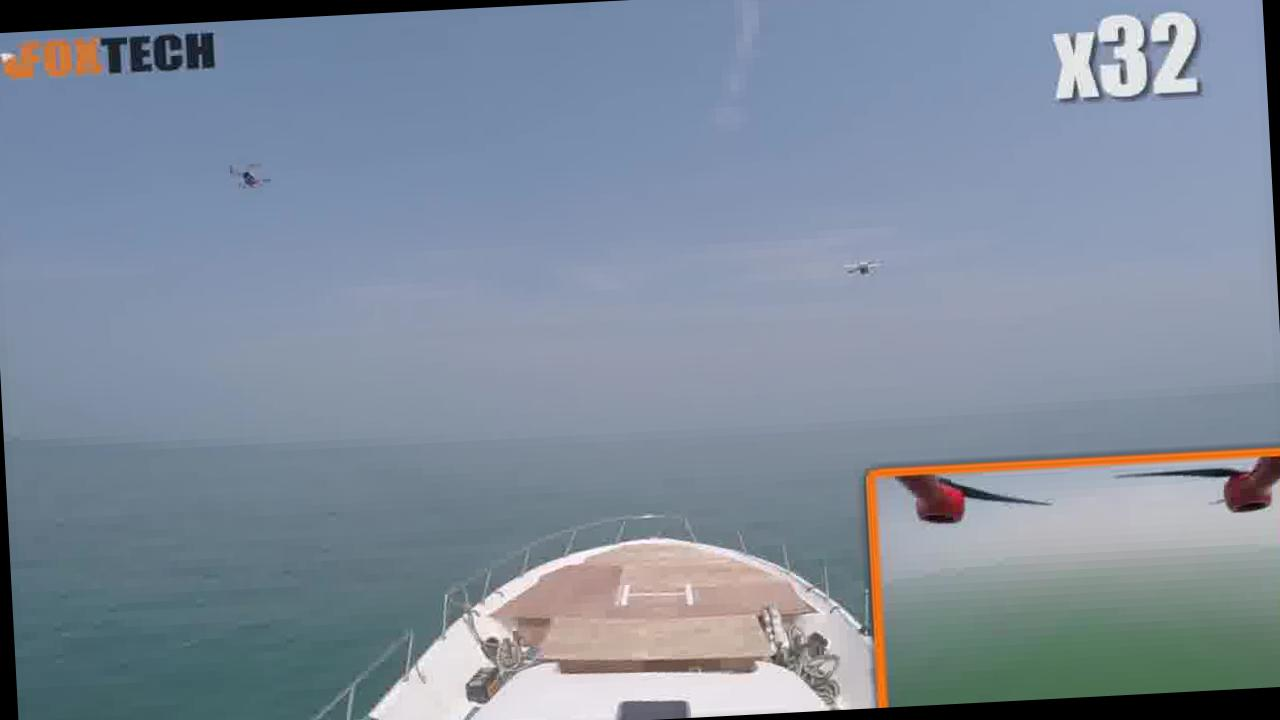drone: (216, 146, 286, 202), (834, 244, 894, 286)
